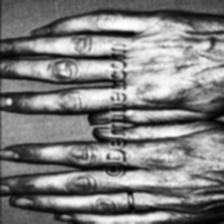Unclassified: (139, 147, 171, 173), (136, 81, 166, 108)
